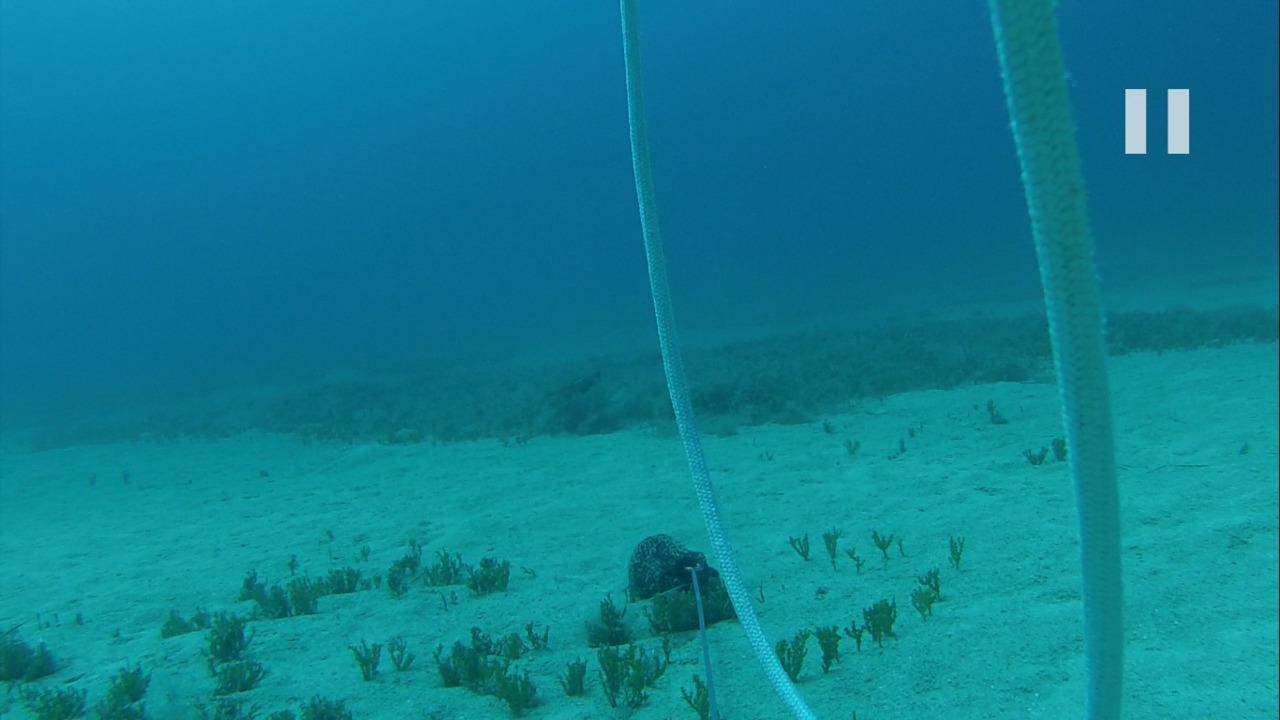dactylopterus: (536, 370, 614, 407)
